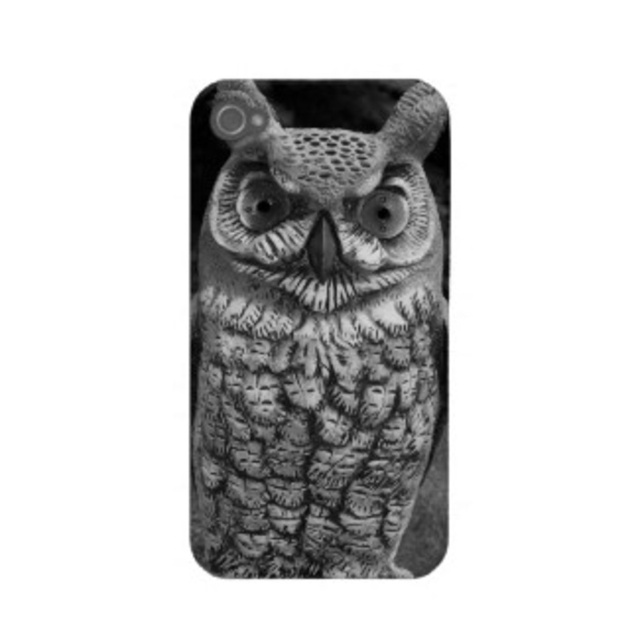Owl: (191, 81, 453, 579)
